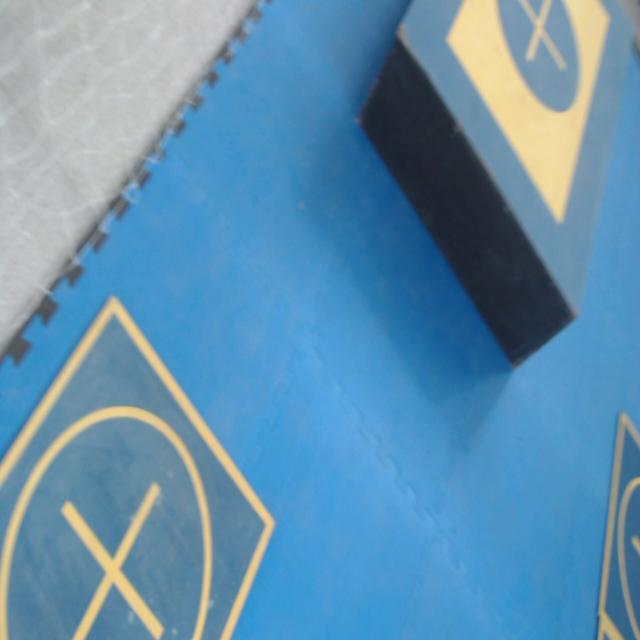base_inicio: (445, 0, 610, 225)
base_pouso: (0, 293, 277, 639), (595, 409, 640, 639), (595, 616, 623, 639)
